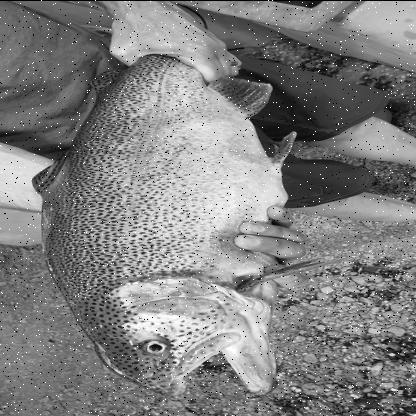fish: (46, 18, 340, 398)
